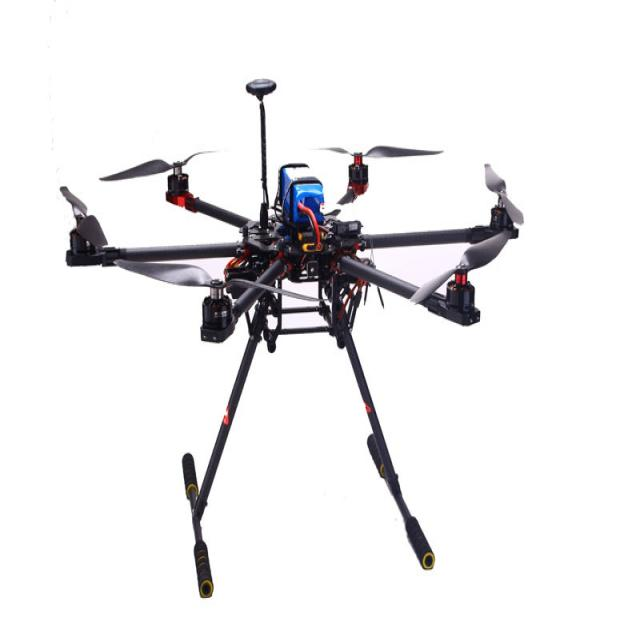drone: (24, 70, 536, 585)
